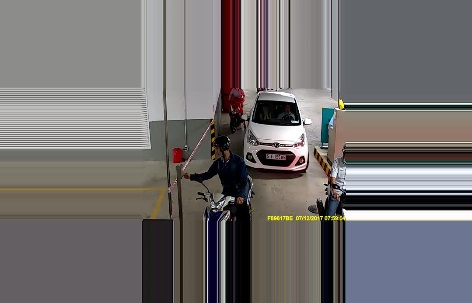plate: (266, 150, 289, 159)
